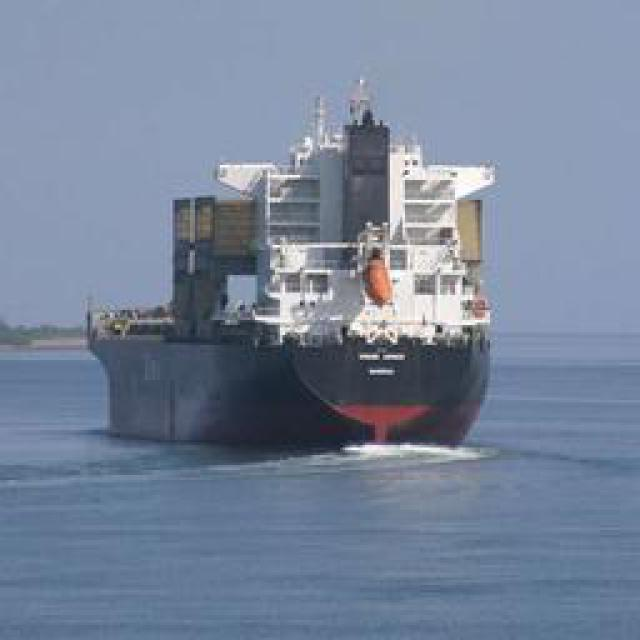Ship: (72, 68, 491, 462)
